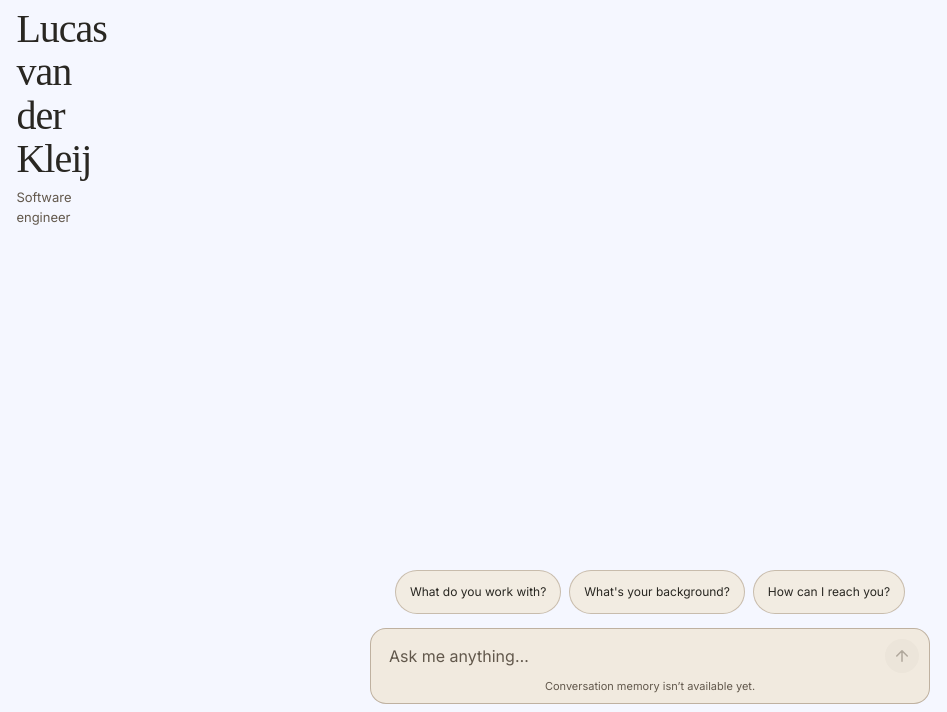
Test: quiet desk conversation › renders user text literally and renders only sanitized Markdown in replies
Type "<img src=x onerror=alert(1)>" into the field with id "chat-input" at point(630, 656), box [389,634,872,678]
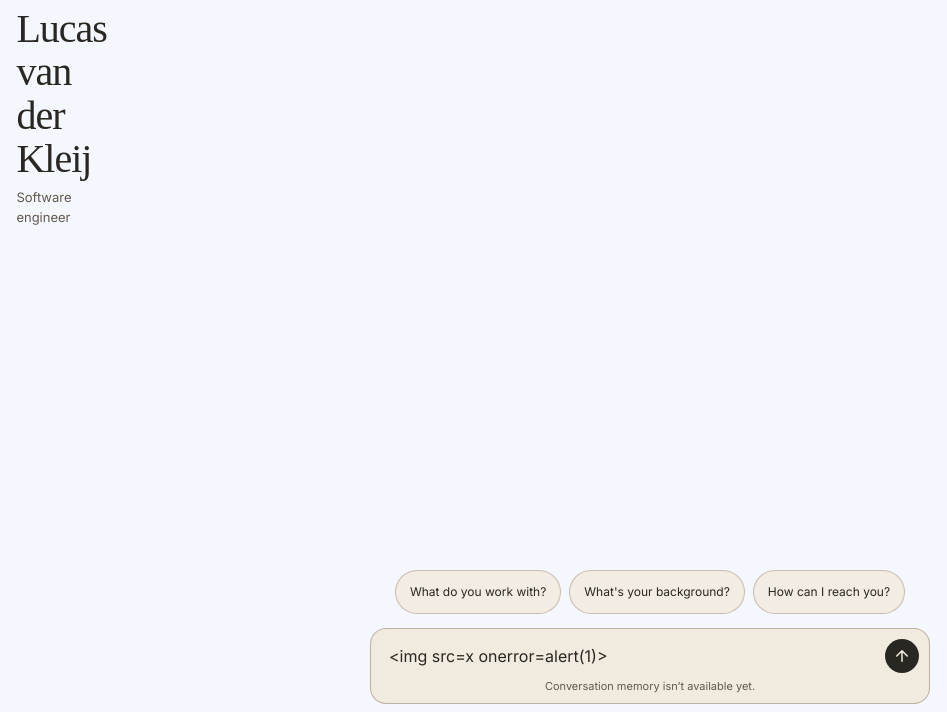
Submit the form with id "chat-form", box [370,628,930,704]
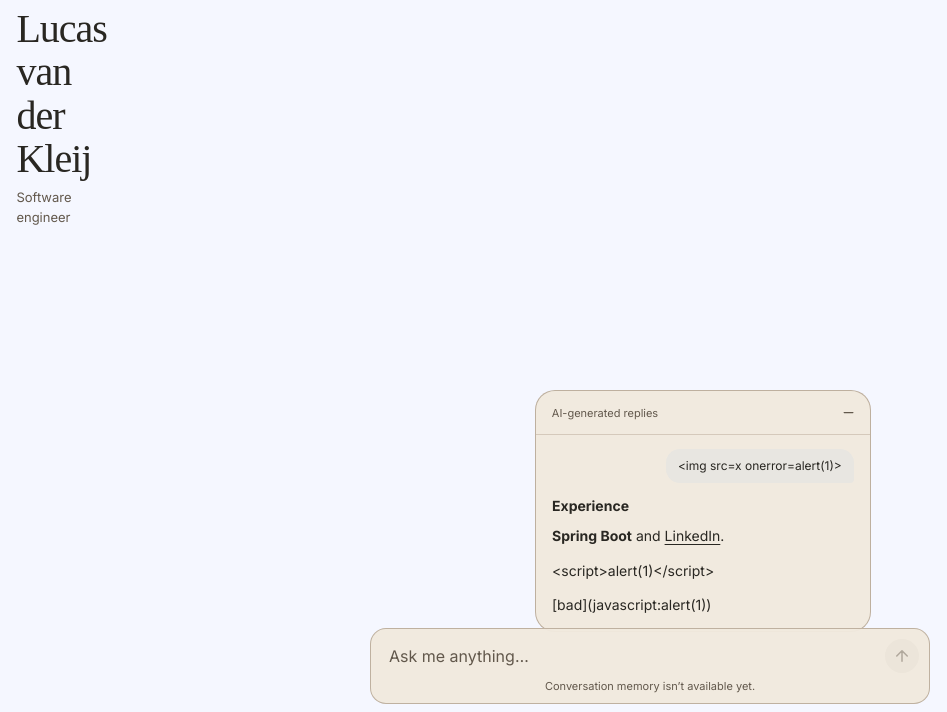
Expected: the heading "Experience" is shown, [552,497,629,514]
Expected: the text "Spring Boot" is shown, [552,528,632,545]
